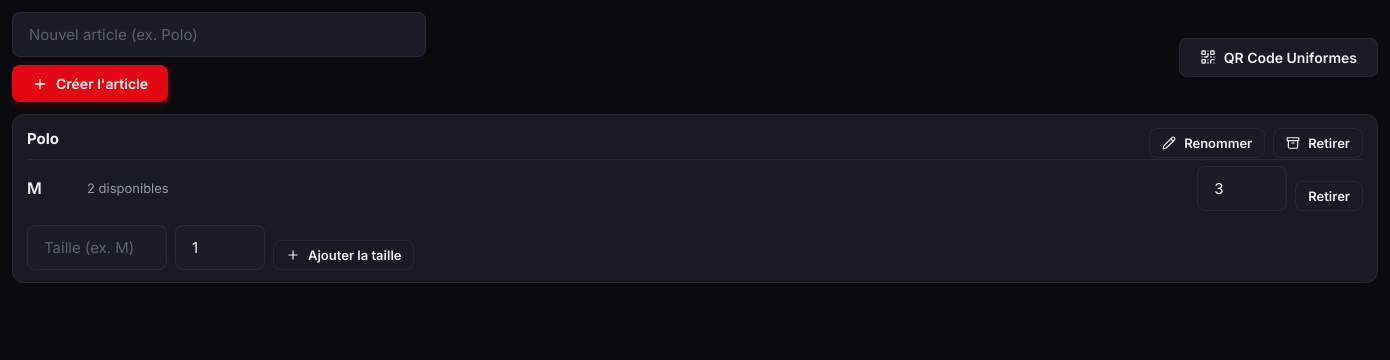
UniformManagement › affiche le 409 de création inline, sans recharger
Type "Polo" into the field named "Nom du nouvel article".
click(219, 34); type("Polo")  # box [12, 12, 426, 57]
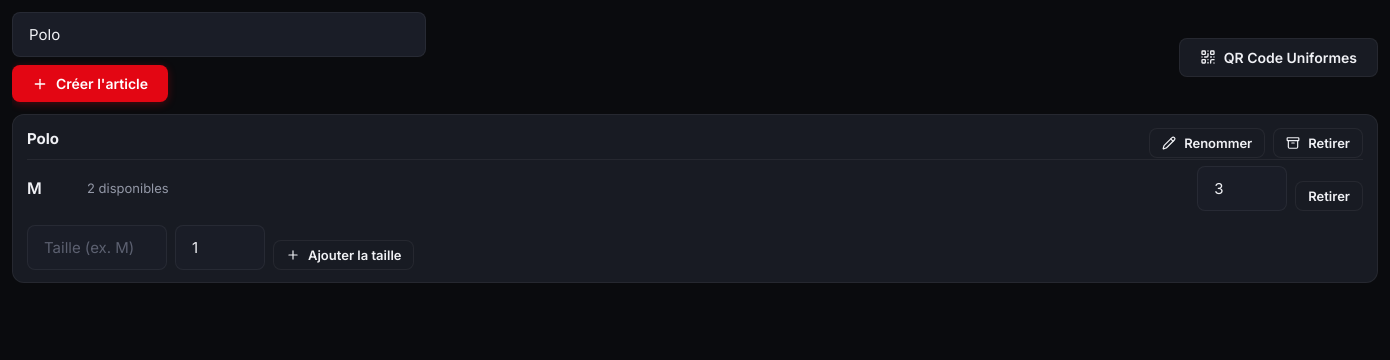
Click the button "Créer l'article".
click(90, 84)  # box [12, 65, 168, 102]
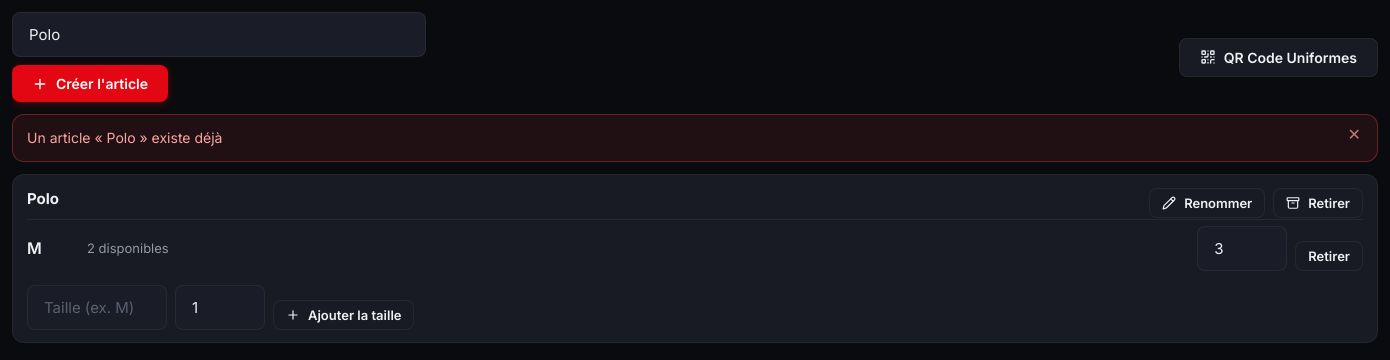
Now the message shows "existe déjà", box [27, 129, 222, 146]
